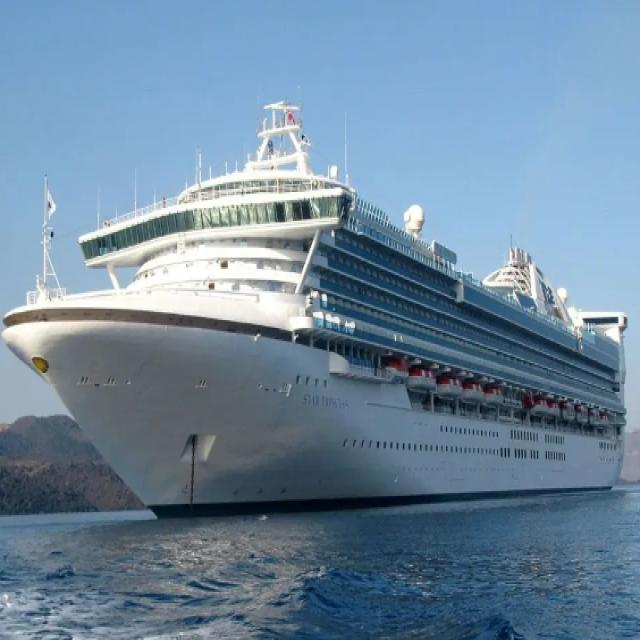passenger ship: (1, 98, 629, 508)
